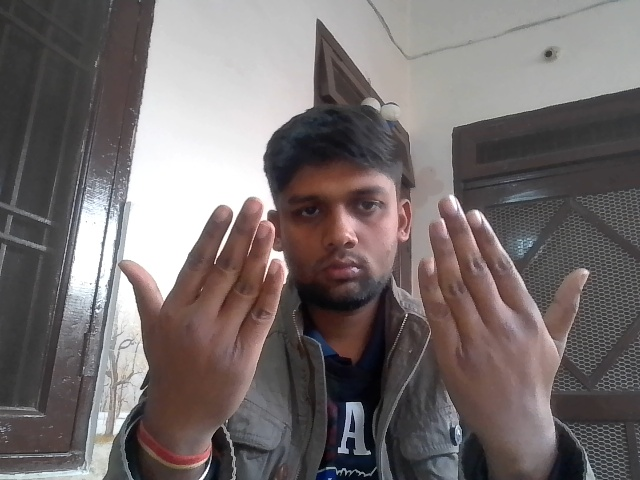ThankYou: (115, 188, 608, 425)
